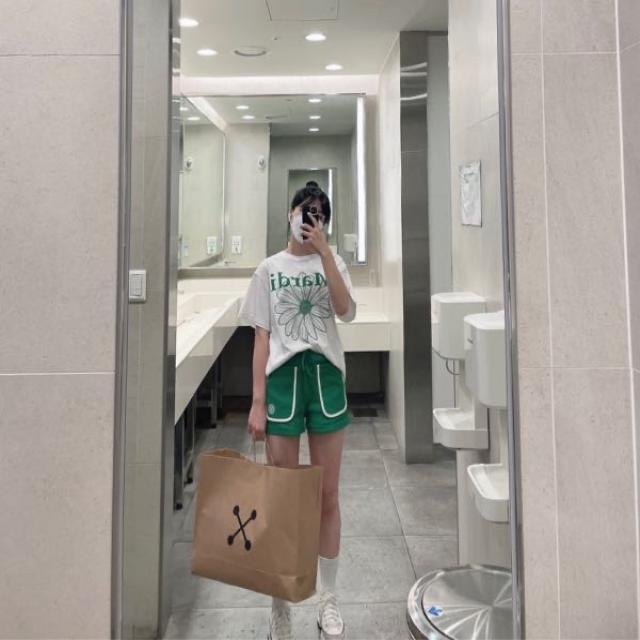shortpants: (267, 347, 349, 434)
shortsleeve: (238, 246, 358, 378)
